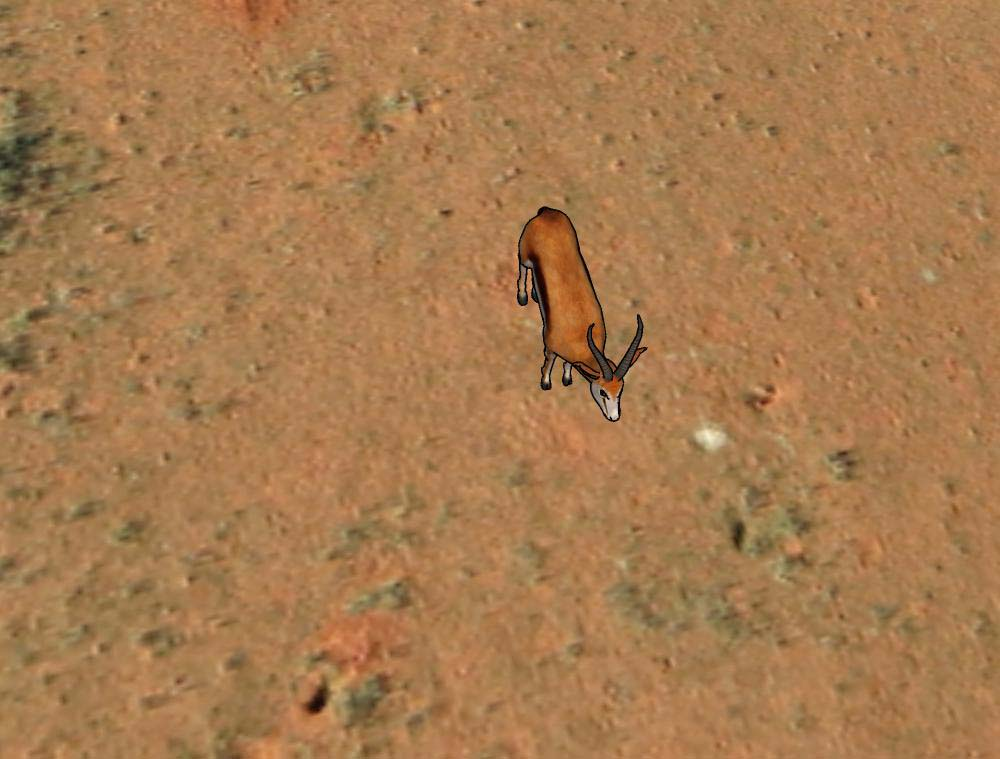springbok: (504, 202, 651, 434)
